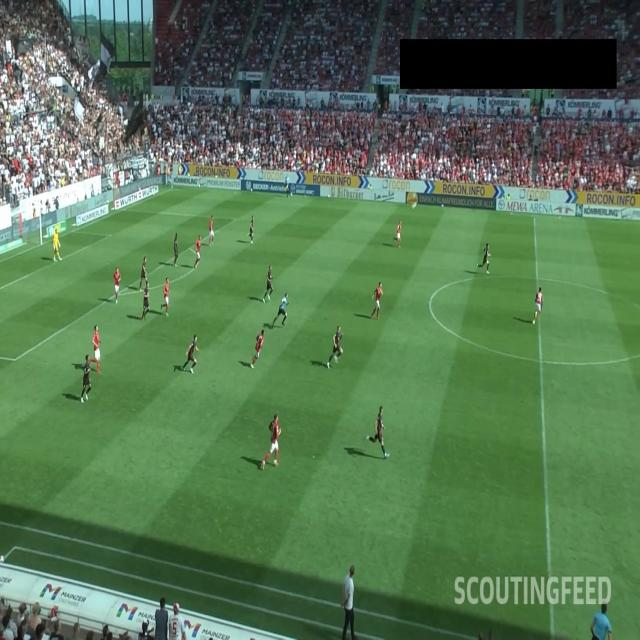ball: (411, 202, 417, 208)
